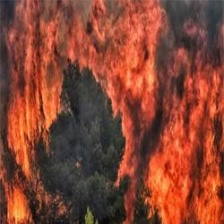fire: (3, 6, 224, 222)
